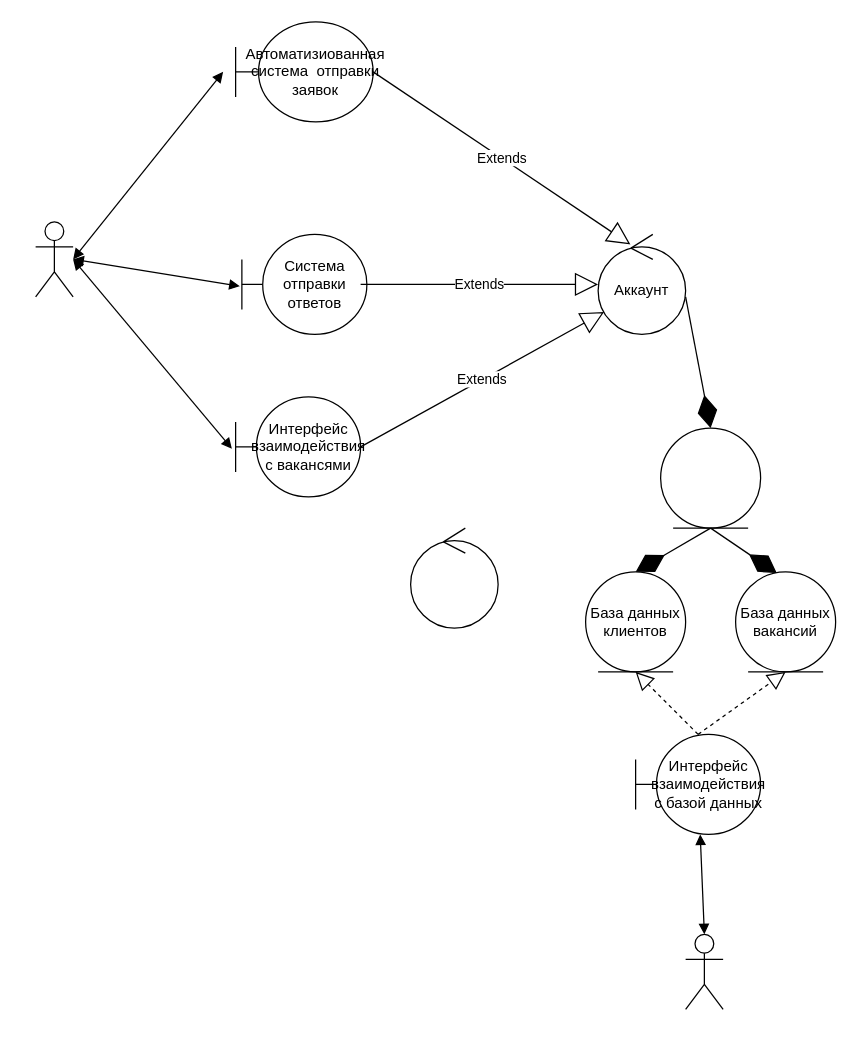
Some shapes in this 858 by 1058 pixel diagram are drawn without their labels. Each missing label, with the centre of its shape:
"База данных" goes at [710,477].
"Кандидат" goes at [53,259].
"Менджер кадрового отедал" goes at [703,971].
"Подбор заявок по категорям" goes at [453,577].
